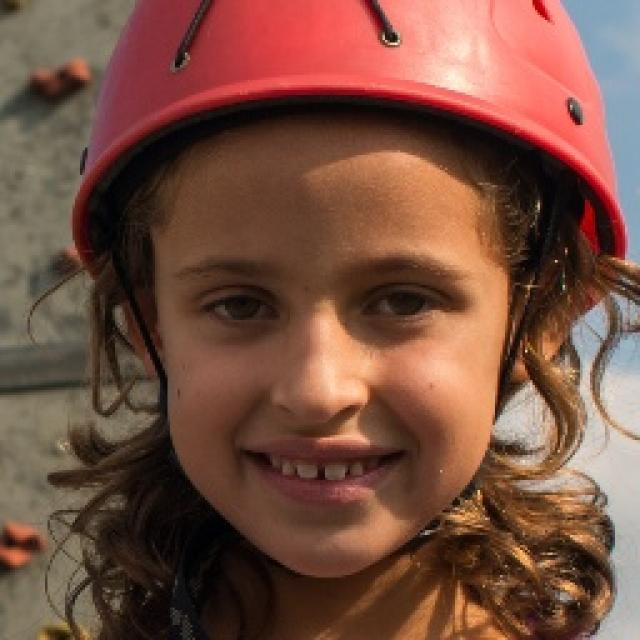earlobe: (507, 353, 552, 383), (142, 354, 168, 384)
eye: (359, 285, 444, 323), (202, 288, 278, 329)
nose: (272, 404, 373, 434)
wholeear: (514, 242, 571, 384), (122, 287, 168, 388)
